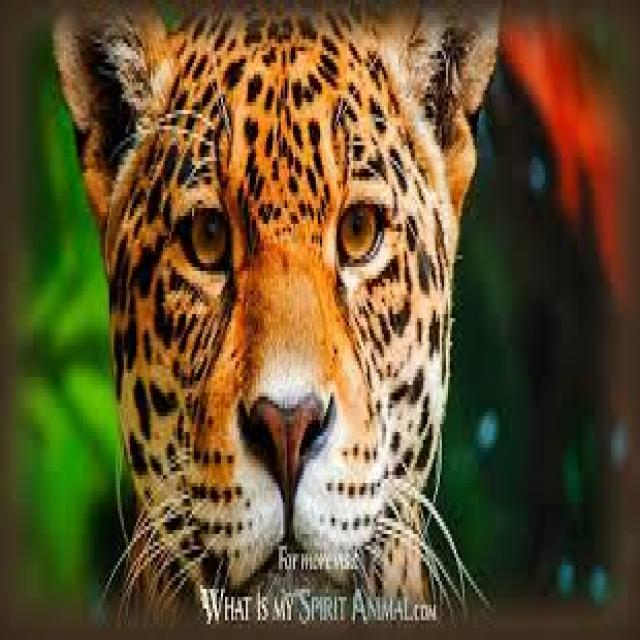Jaguar: (42, 0, 460, 632)
